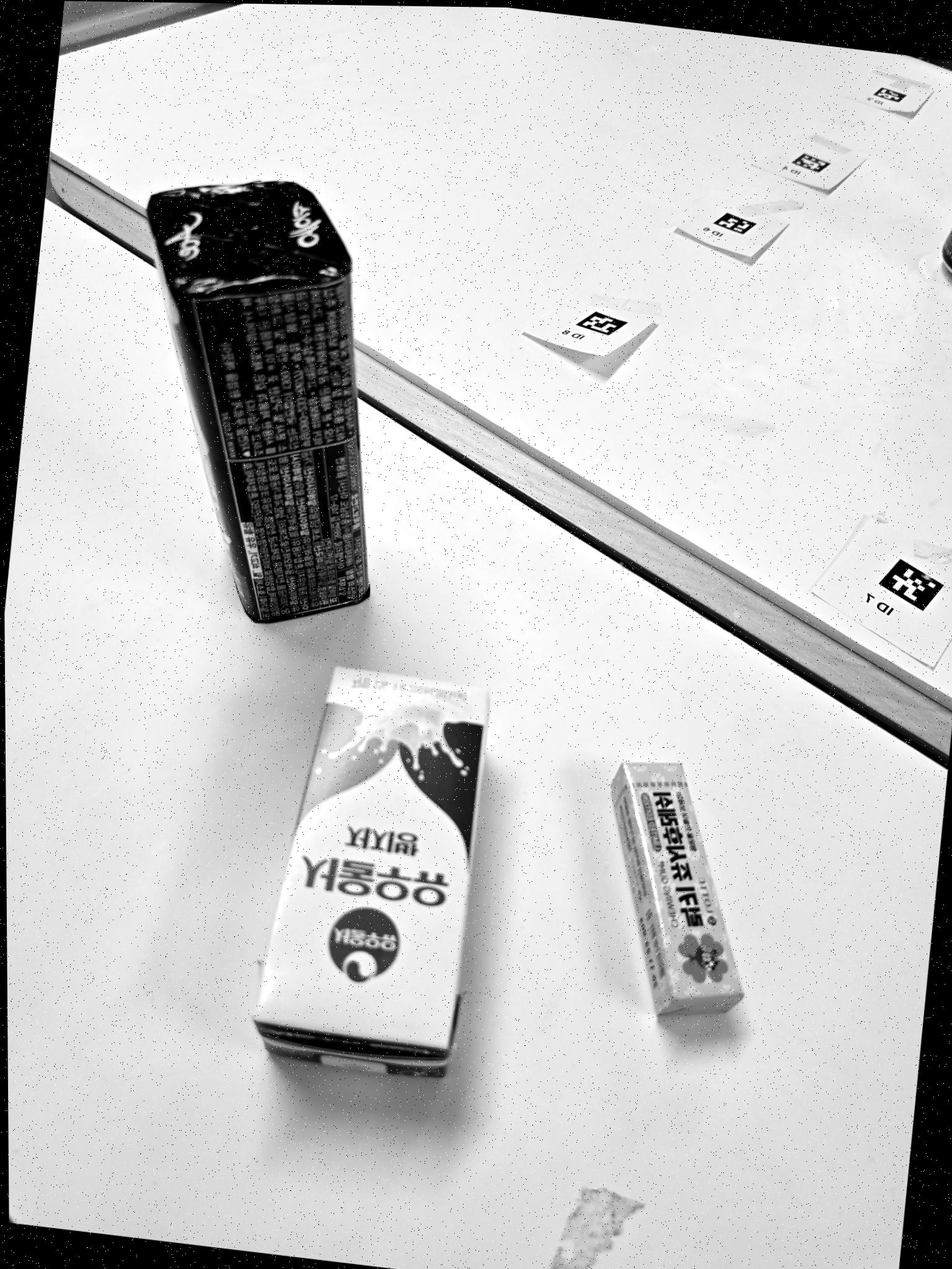cracker_ace: (147, 181, 369, 623)
gum_yellow: (611, 762, 743, 1015)
milk_blue: (253, 667, 489, 1076)
